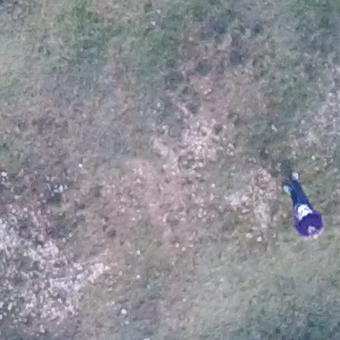human: (278, 167, 326, 239)
